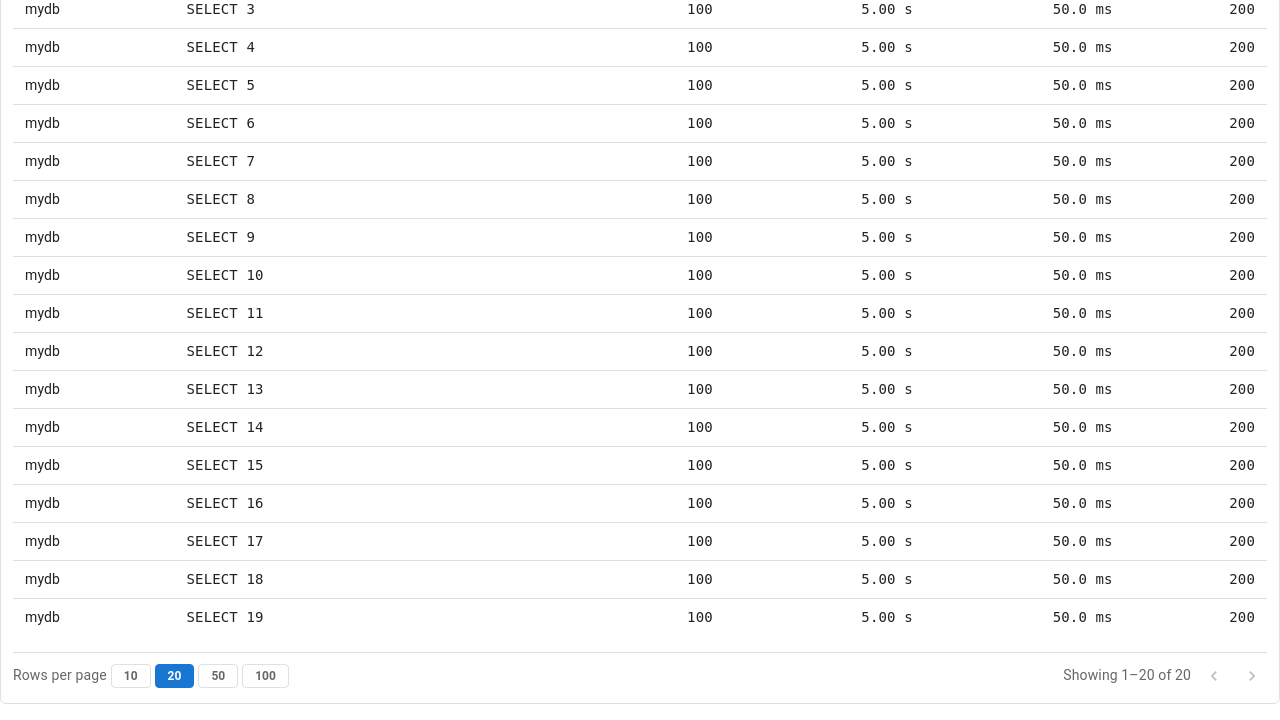
Test: TopQueriesSection › steps back when a refresh strands the user past the end
(page scrolled)
Expected: the text "Showing 1–20 of 20" is shown, [1063, 665, 1191, 686]
Step 1. Click the button named "Show 10 rows per page" → click(131, 676), box [111, 664, 151, 688]
(page scrolled)
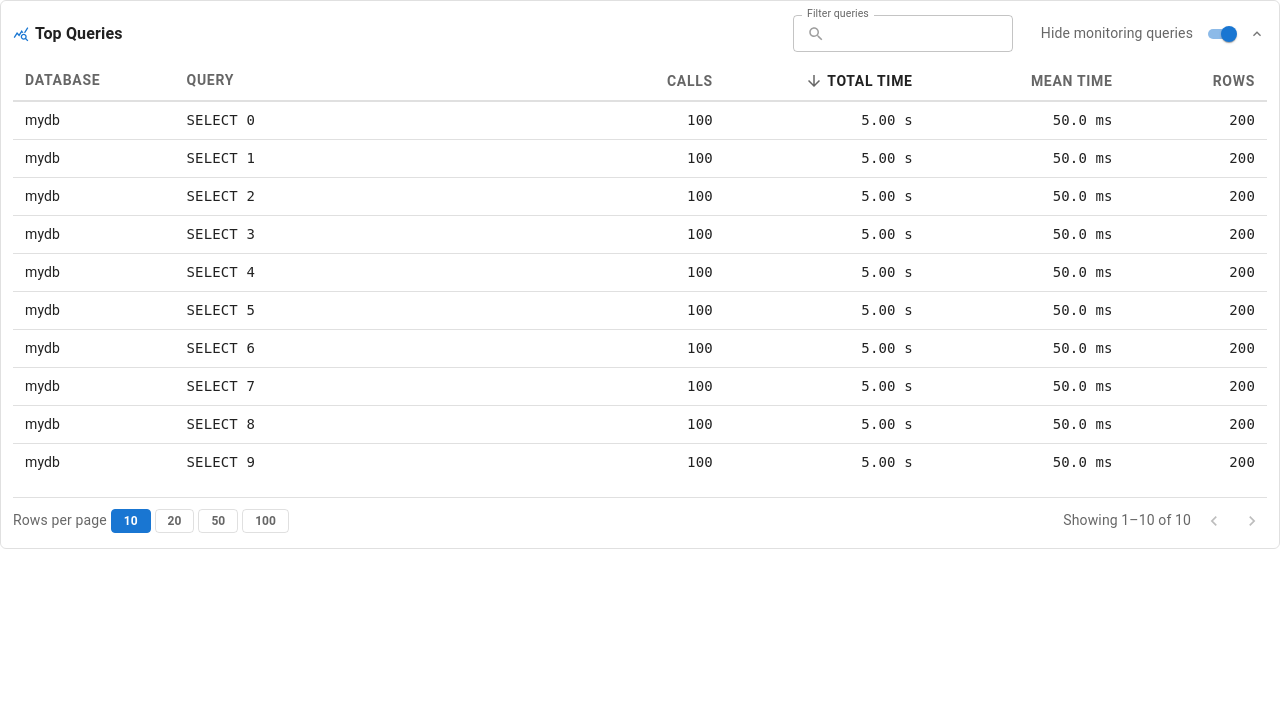
Expected: the text "Showing 1–10 of 10" is shown, [1063, 510, 1191, 531]
